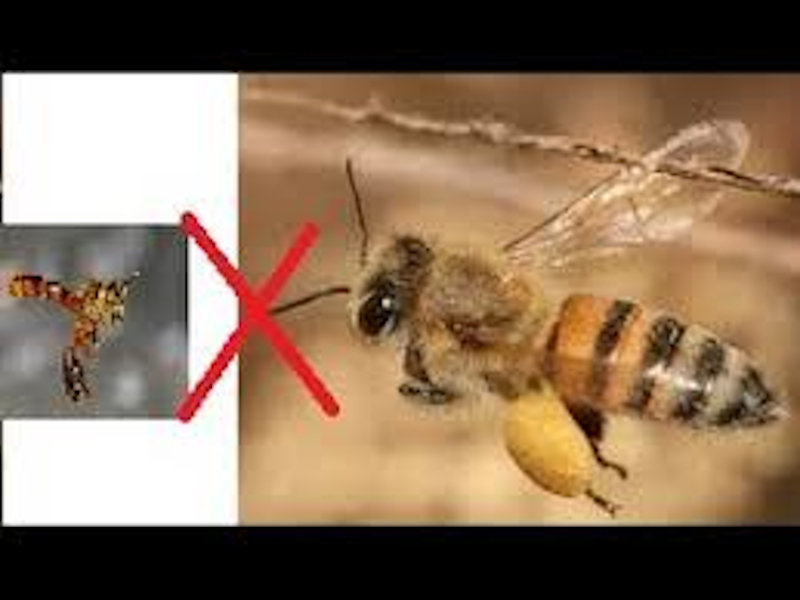abeja: (347, 111, 783, 505)
